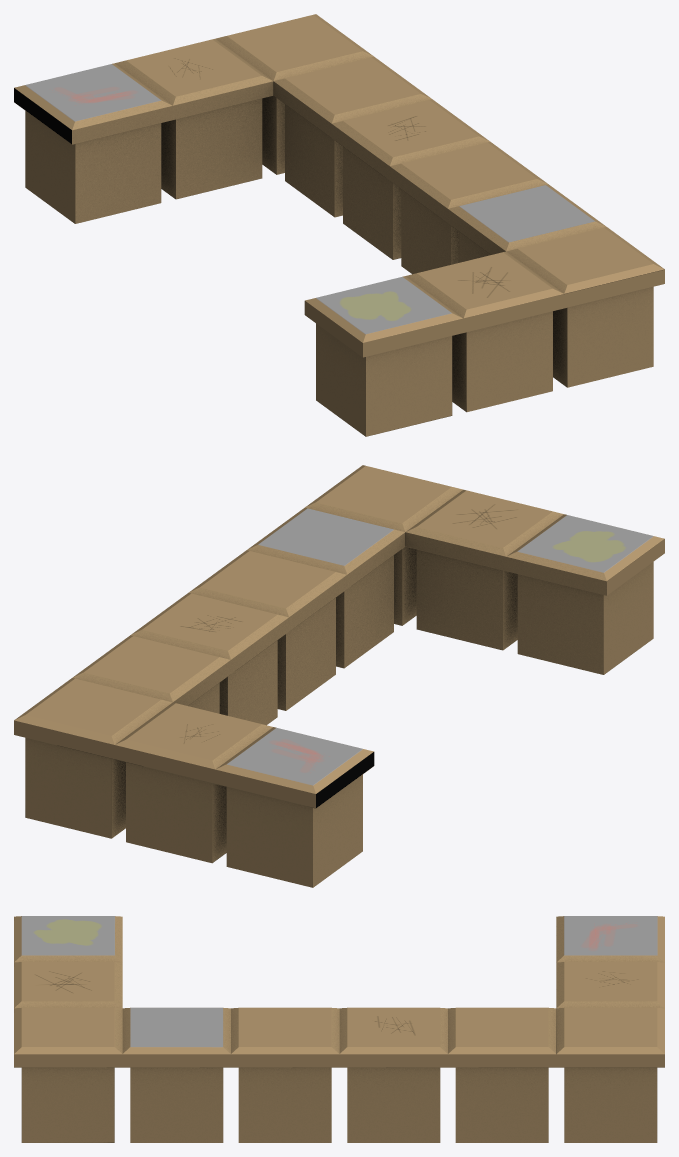
Rendered from Countertop.fbx.
3 views of the same model, one above another, from view 1: azimuth 30°, elevation 25°; view 2: azimuth 150°, elevation 25°; view 3: azimuth 270°, elevation 25° (orthographic). The views are drawn at different scales.
Visible parts, largest first — view 1: Cube.007; view 2: Cube.007; view 3: Cube.007.
Part boxes in pixels (x1,y1,x2,y2): Cube.007: (14,14,664,436); Cube.007: (14,465,664,887); Cube.007: (14,916,664,1142).
Size of the model in its own units: 701 by 228 by 1401.
1 material, 1 textured.
